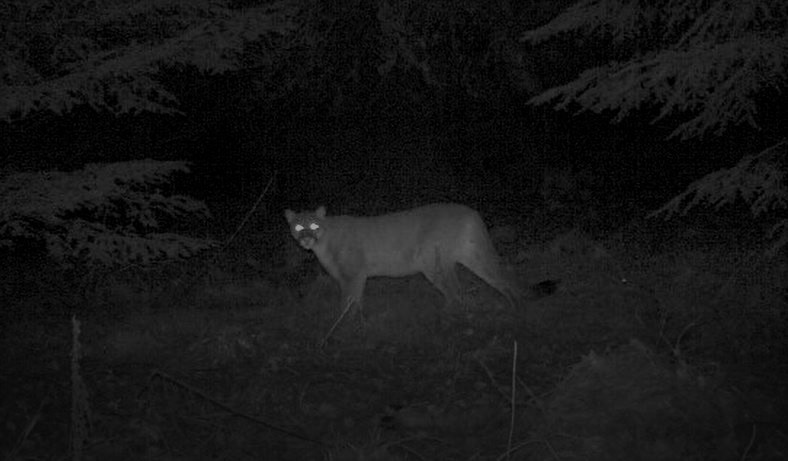mountain lion: (270, 195, 535, 306)
